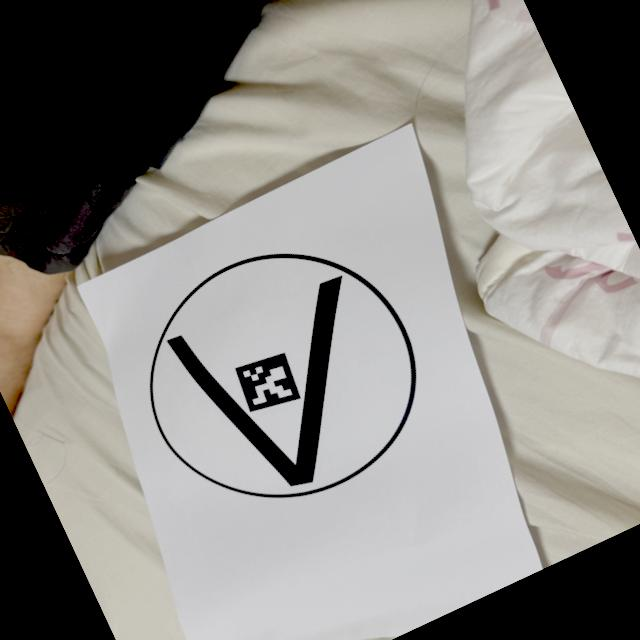vertiport: (87, 192, 480, 566)
